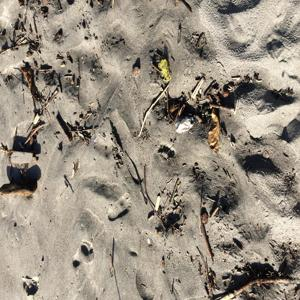plastic: (159, 57, 178, 90), (174, 116, 202, 136)
